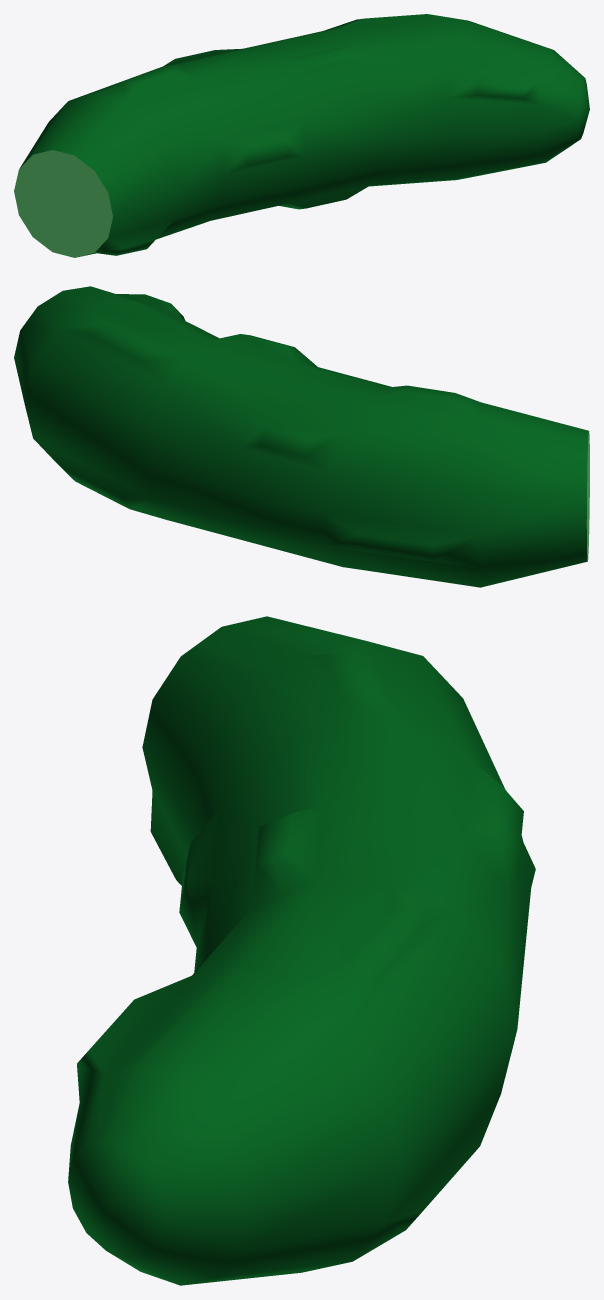
The model's file is mesh_Pickle_Stage02.fbx.
3 renders of one model, top to bottom at view 1: azimuth 30°, elevation 25°; view 2: azimuth 150°, elevation 25°; view 3: azimuth 270°, elevation 25°, orthographic. The views are drawn at different scales.
Visible parts, largest first — view 1: mesh_Pickle_Stage02; view 2: mesh_Pickle_Stage02; view 3: mesh_Pickle_Stage02.
Boxes of the visible parts, box(x1,y1,x2,y2) form: mesh_Pickle_Stage02: box(14, 14, 589, 257); mesh_Pickle_Stage02: box(14, 286, 589, 587); mesh_Pickle_Stage02: box(68, 616, 535, 1285).
Size of the model in its own units: 0.124 by 0.0356 by 0.0476.
